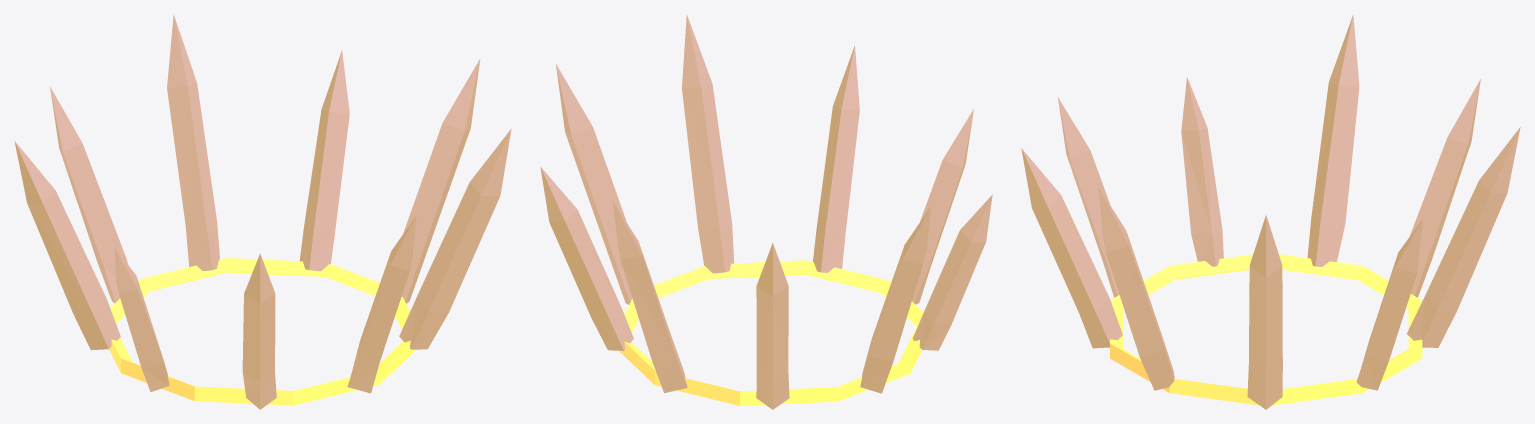
File: dc_abs_crown.glb
3 views of the same model, side by side, from view 1: azimuth 30°, elevation 25°; view 2: azimuth 150°, elevation 25°; view 3: azimuth 270°, elevation 25° (orthographic). The views are drawn at different scales.
Visible parts, largest first — view 1: part.dc_abs_crown; view 2: part.dc_abs_crown; view 3: part.dc_abs_crown.
Boxes of the visible parts, bbox=[...] form: part.dc_abs_crown: bbox=[14, 14, 511, 409]; part.dc_abs_crown: bbox=[540, 14, 992, 409]; part.dc_abs_crown: bbox=[1021, 15, 1520, 409].
Size of the model in its own units: 0.626 by 0.3244 by 0.6261.
